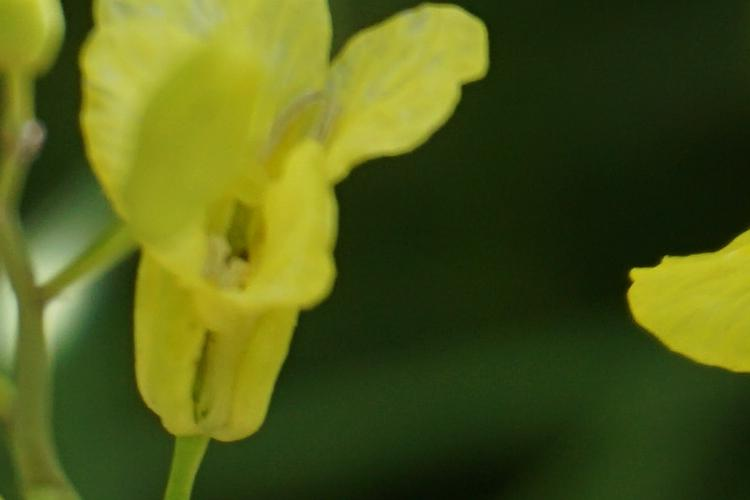yellow: (98, 24, 405, 442)
